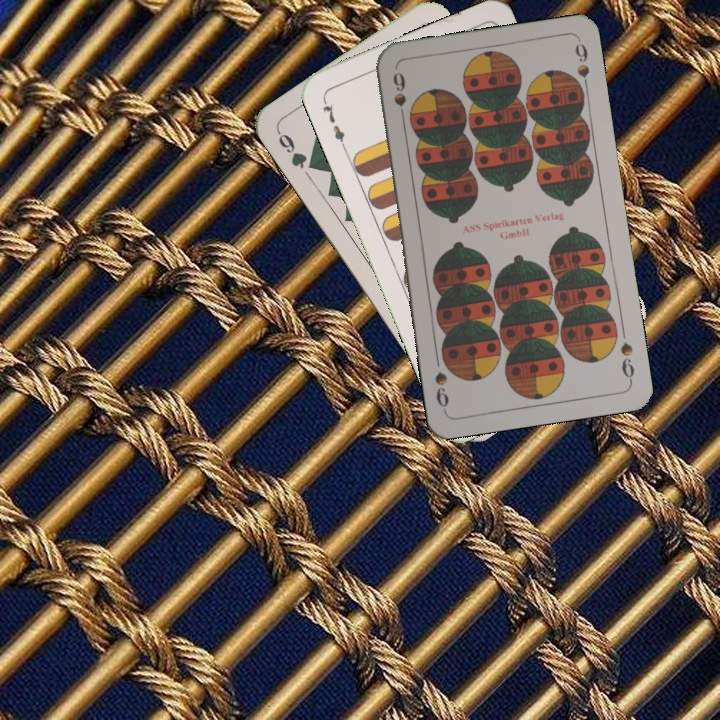E7: (318, 94, 348, 151)
G9: (273, 127, 320, 173)
S9: (388, 67, 409, 126), (616, 338, 637, 385)
